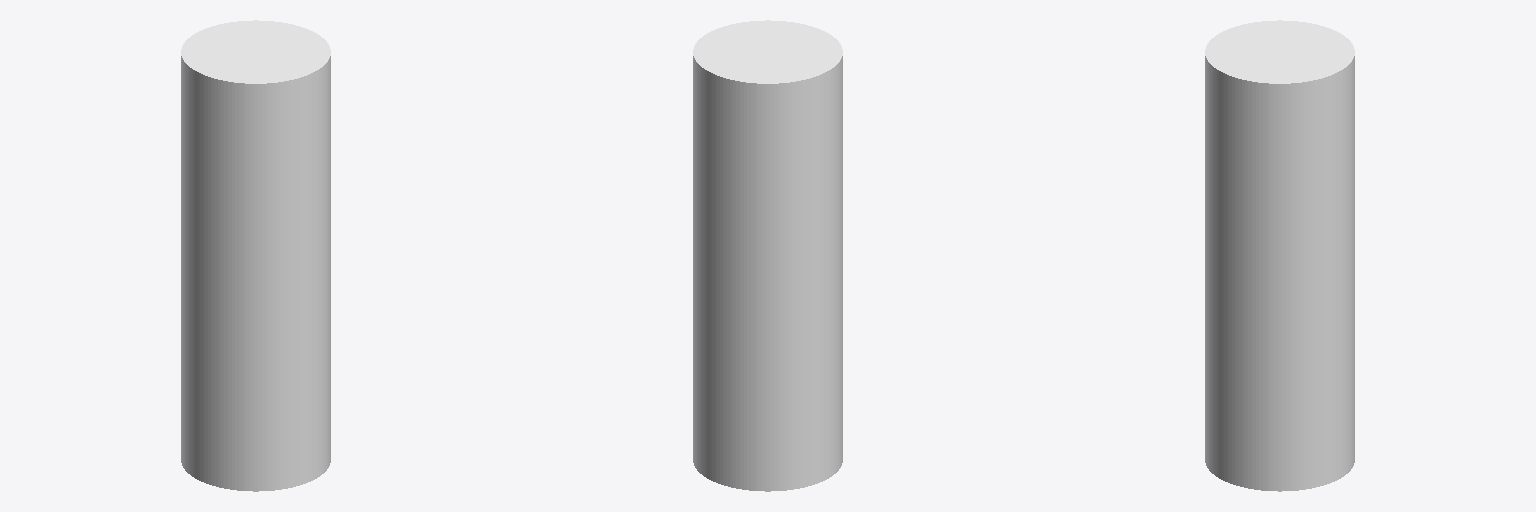
URDF robot description (pillar.urdf):
<?xml version="1.0" ?>
<robot name="pillar.urdf">
  <link name="baseLink">
    <contact>
    	<friction_anchor/>
    	   <lateral_friction value="0.05"/>
    </contact>
    <inertial>
      <origin rpy="0 0 0" xyz="0 0 0"/>
       <mass value=".0001"/>
       <inertia ixx="1" ixy="0" ixz="0" iyy="1" iyz="0" izz="1"/>
    </inertial>
    <visual>
      <origin rpy="0 0 0" xyz="0 0 00"/>
      <geometry>
				<mesh filename="pillar.STL" scale="0.001 0.001 0.001"/>
      </geometry>
       <material name="white">
        <color rgba="1 1 1 1"/>
      </material>
    </visual>
   
  </link>
</robot>

--- Facts derived from the render (not from the file) ---
Views: 3 orthographic renders of the robot side by side, from view 1: azimuth 30°, elevation 25°; view 2: azimuth 150°, elevation 25°; view 3: azimuth 270°, elevation 25°.
Model pillar.urdf with 1 links and 0 joints (none), rooted at baseLink, posed every joint at zero.
Visible links, largest first — view 1: baseLink; view 2: baseLink; view 3: baseLink.
Boxes of the visible links, <box> form: baseLink: <box>181,20,330,491</box>; baseLink: <box>693,20,842,491</box>; baseLink: <box>1205,20,1354,491</box>.
Size in the robot's own frame: 0.5 by 0.5 by 1.5 metres.
Meshes: 1 distinct files referenced, 1 mesh visuals loaded (1 binary STL).
